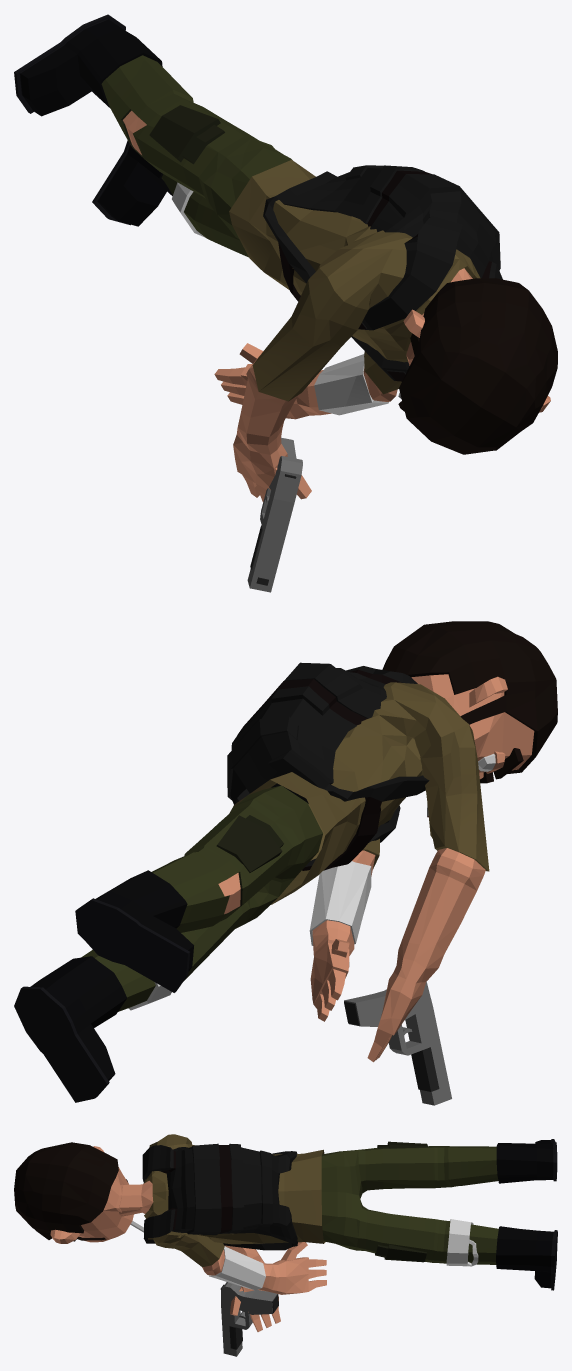
File: frame_0003.obj
3 renders of one model, top to bottom at view 1: azimuth 30°, elevation 25°; view 2: azimuth 150°, elevation 25°; view 3: azimuth 270°, elevation 25°, orthographic. The views are drawn at different scales.
Visible parts, largest first — view 1: Body, Gun; view 2: Body, Gun; view 3: Body, Gun.
Part boxes in pixels (<box>): Body: <box>14,14,557,501</box>; Gun: <box>247,437,302,592</box>; Body: <box>14,621,557,1102</box>; Gun: <box>344,982,451,1105</box>; Body: <box>14,1134,557,1331</box>; Gun: <box>220,1282,278,1356</box>.
Size of the model in its own units: 1.35 by 2.12 by 4.15.
